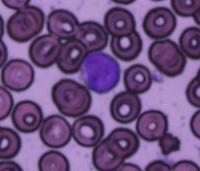L: (80, 50, 121, 94)
